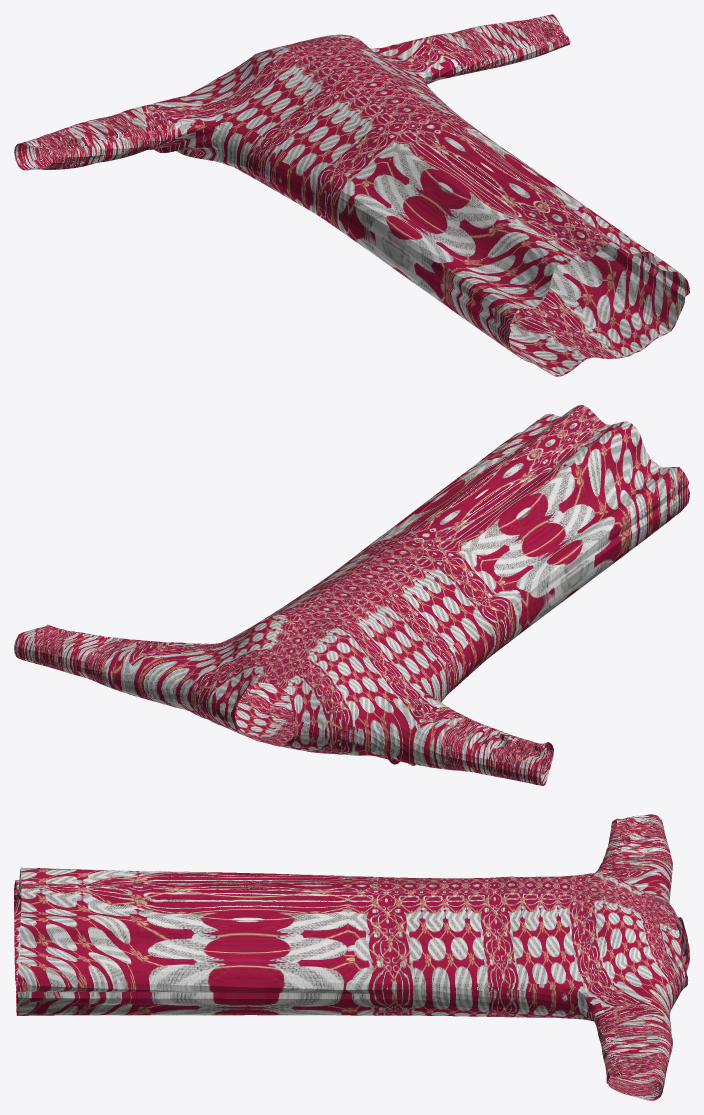
Rendered from garment-b.glb.
3 views of the same model, one above another, from view 1: azimuth 30°, elevation 25°; view 2: azimuth 150°, elevation 25°; view 3: azimuth 270°, elevation 25° (orthographic). The views are drawn at different scales.
Parts seen in each view (by area): view 1: 04_MaleWearables; view 2: 04_MaleWearables; view 3: 04_MaleWearables.
Boxes of the visible parts, bbox=[...] form: 04_MaleWearables: bbox=[14, 14, 689, 376]; 04_MaleWearables: bbox=[14, 405, 689, 785]; 04_MaleWearables: bbox=[14, 814, 689, 1100].
Bounding box in the file's own units: 5.64 × 1.2 × 6.14.
Materials: 1 (1 with a texture image).
